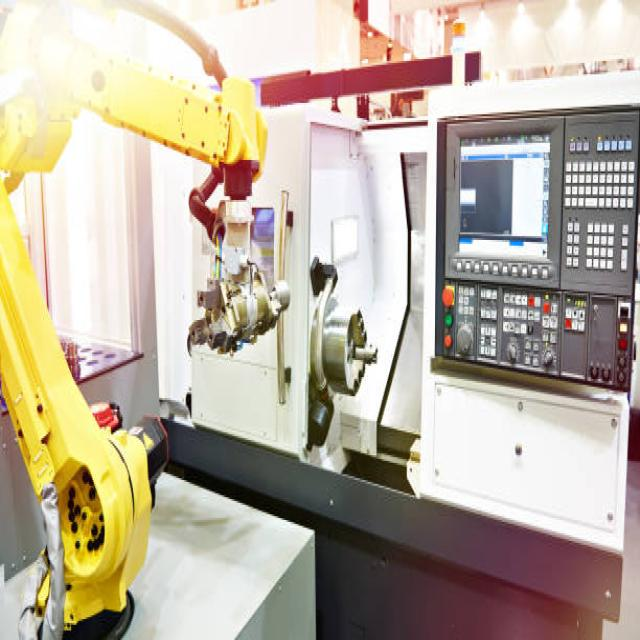Robotic-arm: (0, 0, 267, 640)
